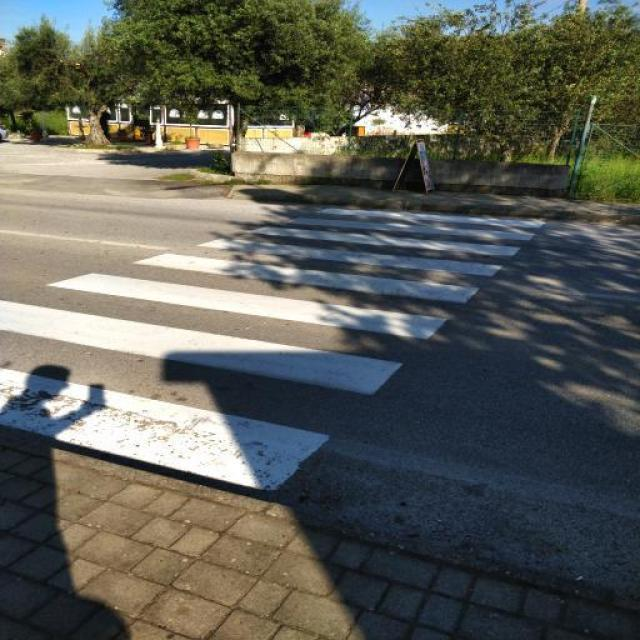crosswalk: (4, 206, 547, 494)
